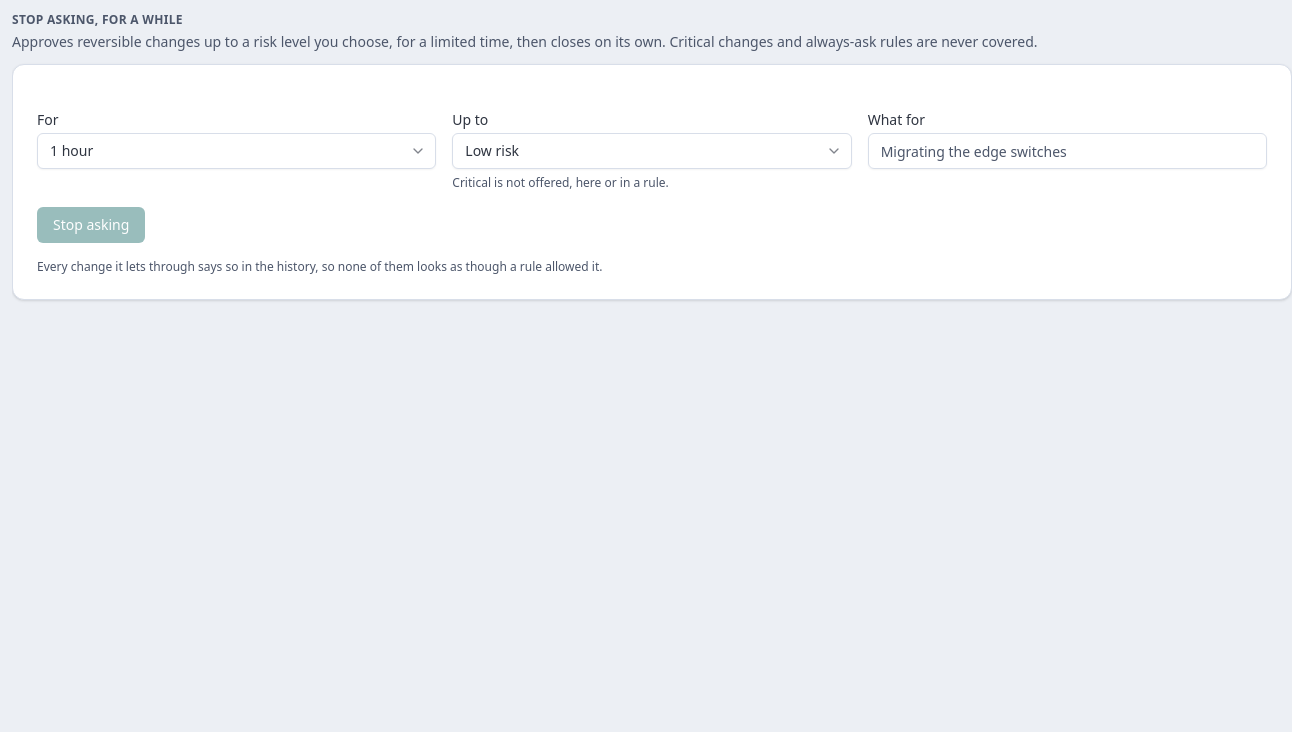
stopping the asking for a while › reports what the host said when a window is refused
Type "x" into the field labelled "What for". click: (1067, 151)
box: left=868, top=133, right=1267, bottom=169
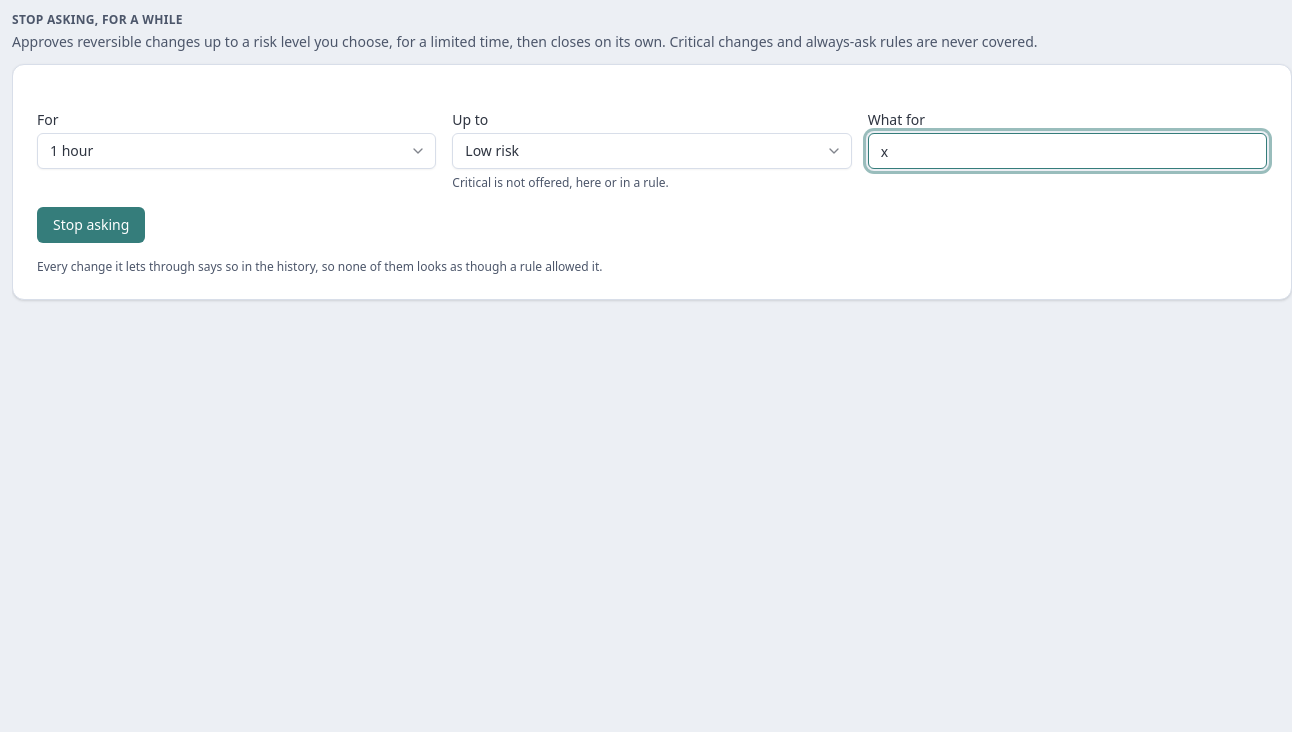
Click the button "Stop asking". click: (91, 225)
box: left=37, top=207, right=145, bottom=243
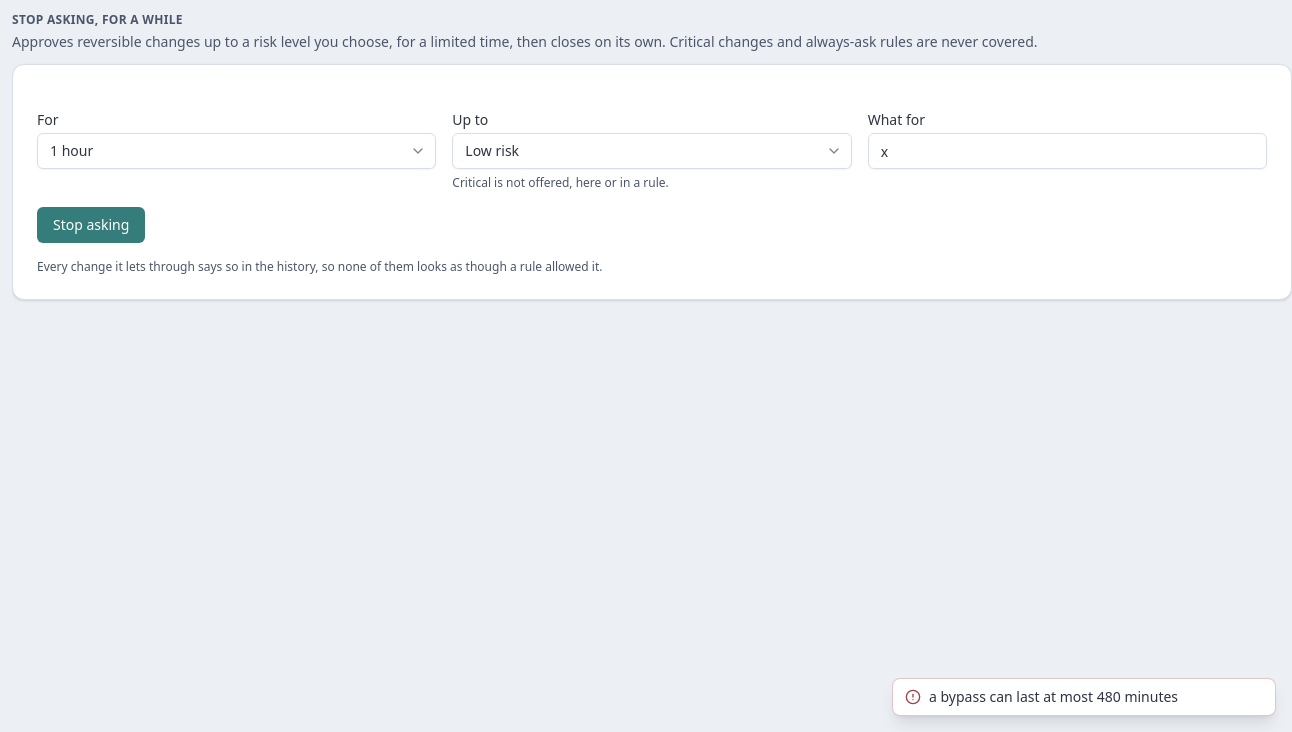
Result: the text "a bypass can last at most 480 minutes" is shown at left=929, top=687, right=1178, bottom=707
